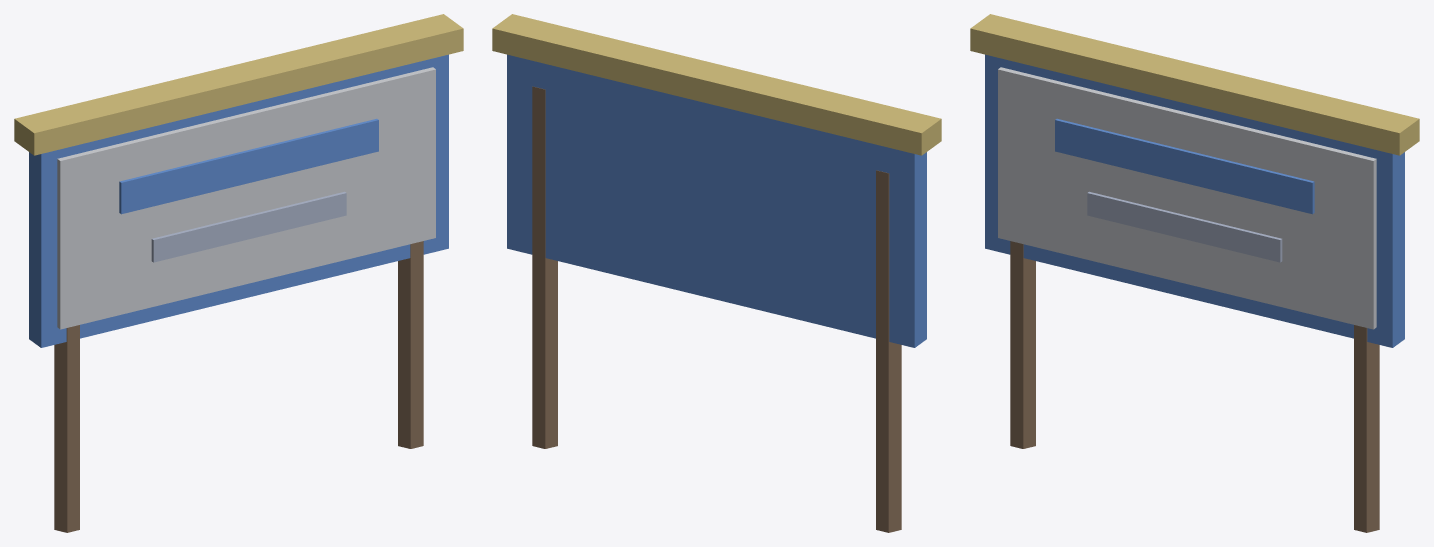
File: signboard.glb
The picture shows the model from 3 angles, left to right: view 1: azimuth 30°, elevation 25°; view 2: azimuth 150°, elevation 25°; view 3: azimuth 330°, elevation 25°; orthographic projection.
Size of the model in its own units: 2 by 1.83 by 0.17.
